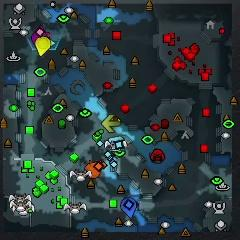p1: (122, 197, 138, 220)
p2: (51, 37, 57, 49)
p3: (33, 32, 48, 44)
p4: (35, 38, 52, 57)
p5: (86, 161, 103, 178)
x2: (102, 114, 123, 132)
x3: (109, 136, 124, 152)
